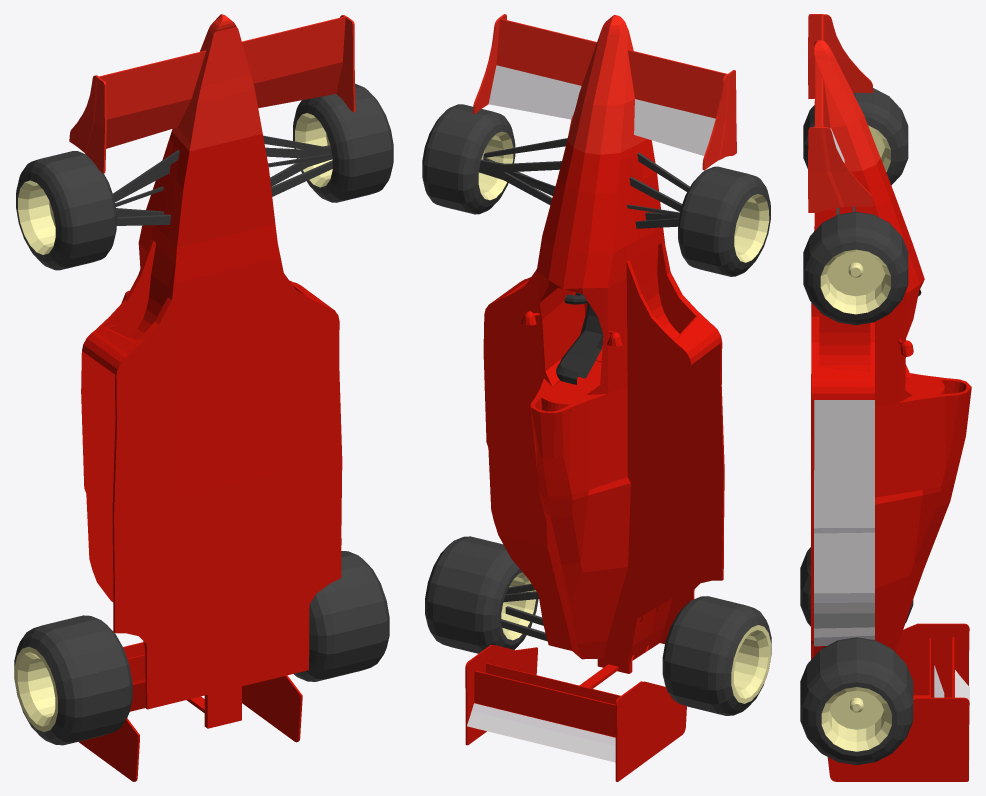
The model's file is formula15final5.fbx.
3 views of the same model, side by side, from view 1: azimuth 30°, elevation 25°; view 2: azimuth 150°, elevation 25°; view 3: azimuth 270°, elevation 25° (orthographic). The views are drawn at different scales.
Parts seen in each view (by area): view 1: Cube; view 2: Cube; view 3: Cube.
Boxes of the visible parts, bbox=[...] form: Cube: bbox=[14, 14, 393, 781]; Cube: bbox=[422, 14, 771, 781]; Cube: bbox=[800, 14, 971, 781].
Size of the model in its own units: 460 by 983 by 217.
